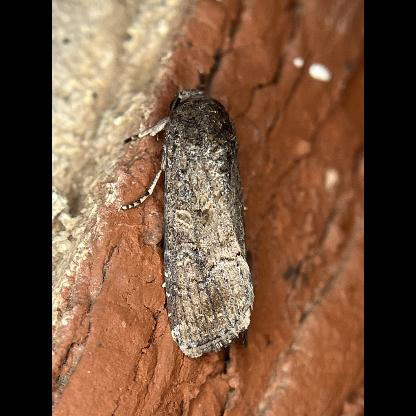Fall Armyworm Moth: (118, 65, 260, 362)
